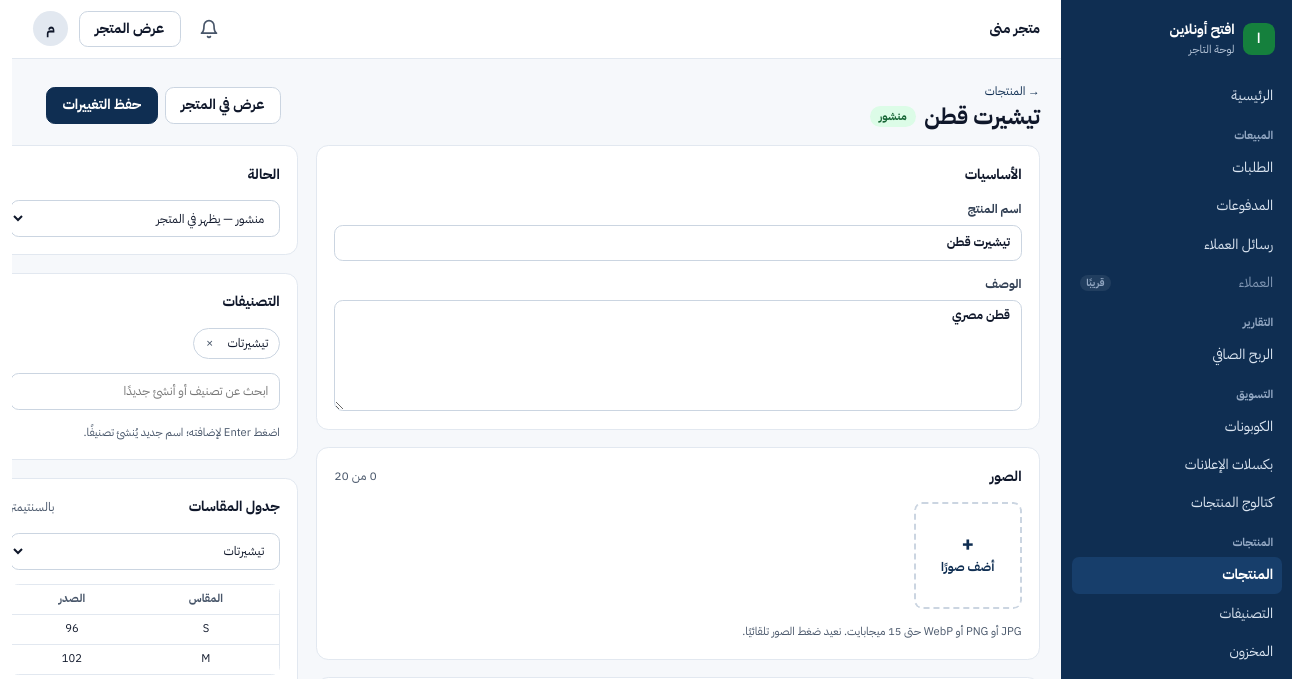
Test: ProductEditor › says what the server refused
The width and height of the screenshot is (1292, 679).
Click the button "حفظ التغييرات" at (102, 106), box [46,87,158,124]
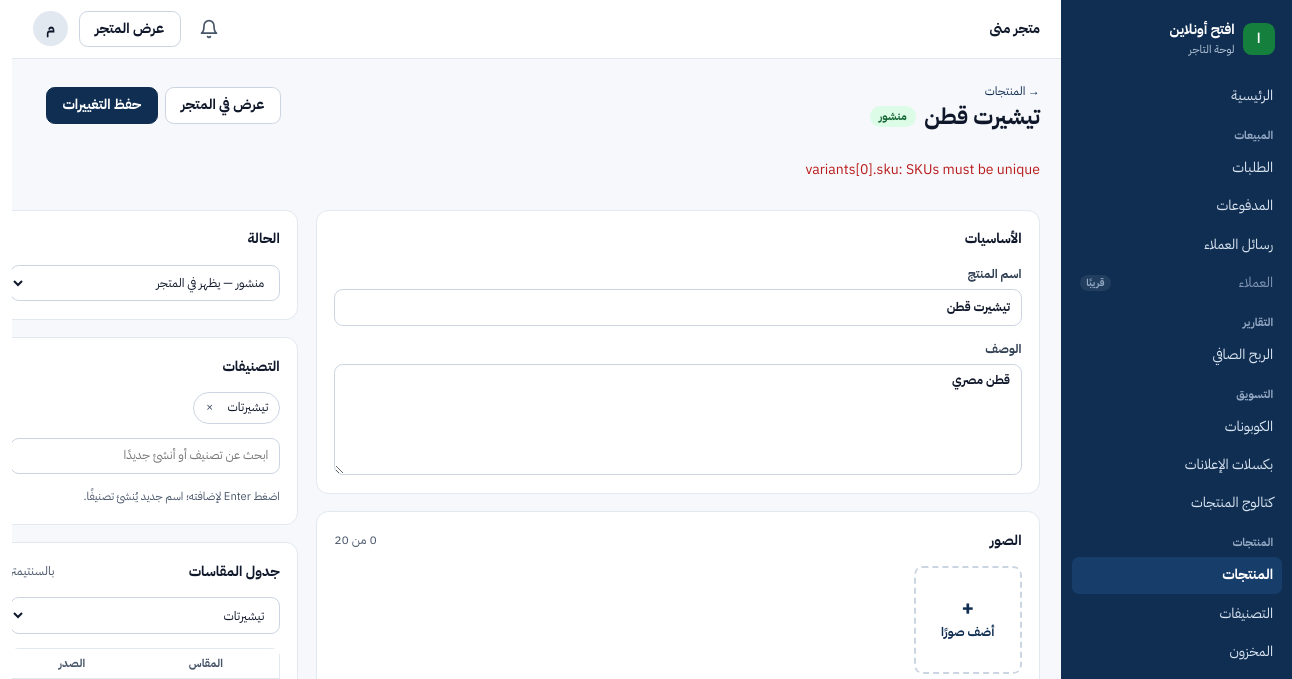
Expected: the text "variants[0].sku: SKUs must be unique" is shown, [806,159,1040,180]
